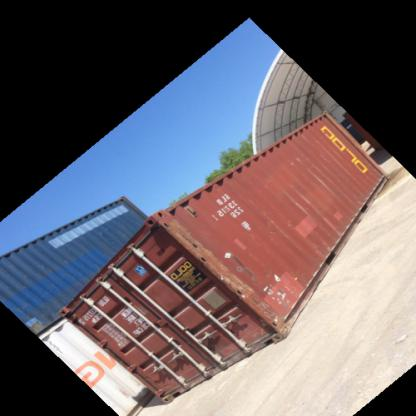Damage: (166, 221, 252, 302), (252, 271, 298, 333), (305, 166, 348, 198), (262, 212, 296, 252), (281, 188, 308, 221), (319, 210, 348, 238), (286, 150, 301, 166), (263, 176, 274, 188)
